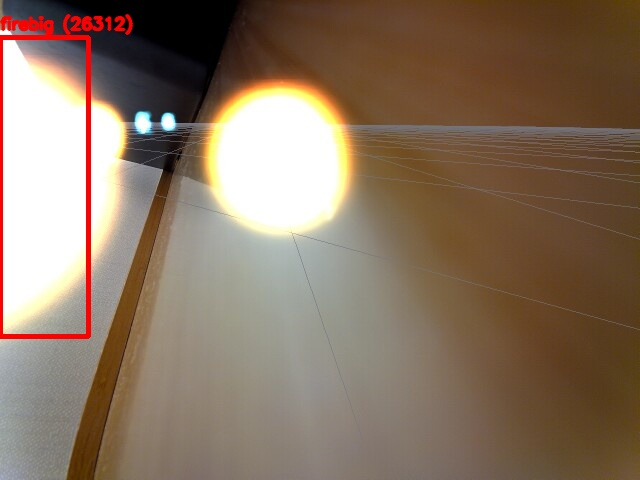firebig: (0, 37, 88, 336)
